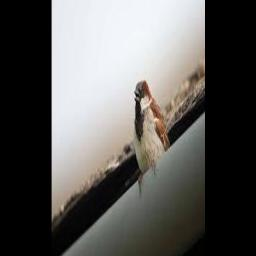Sparrow: (133, 81, 171, 191)
